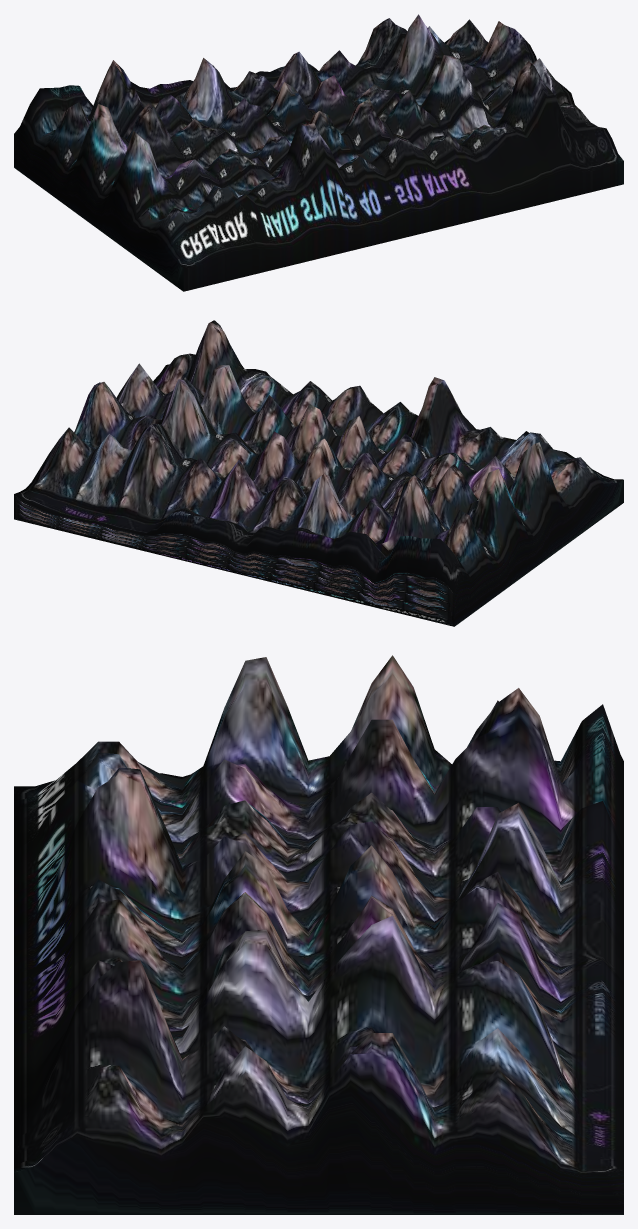
The model's file is CREATOR_Hair_Styles_40.glb.
3 views of the same model, one above another, from view 1: azimuth 30°, elevation 25°; view 2: azimuth 150°, elevation 25°; view 3: azimuth 270°, elevation 25° (orthographic). The views are drawn at different scales.
Visible parts, largest first — view 1: CREATOR_Hair_Styles_40; view 2: CREATOR_Hair_Styles_40; view 3: CREATOR_Hair_Styles_40.
Boxes of the visible parts, x1=… form: CREATOR_Hair_Styles_40: x1=14, y1=14, x2=623, y2=291; CREATOR_Hair_Styles_40: x1=14, y1=320, x2=623, y2=626; CREATOR_Hair_Styles_40: x1=14, y1=655, x2=623, y2=1214.
Bounding box in the file's own units: 2 × 0.51 × 1.33.
Materials: 1 (1 with a texture image).
